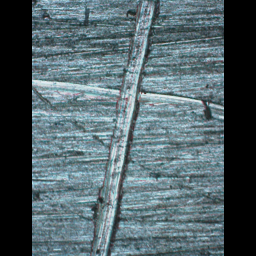d: (87, 0, 164, 254), (32, 76, 224, 112)
